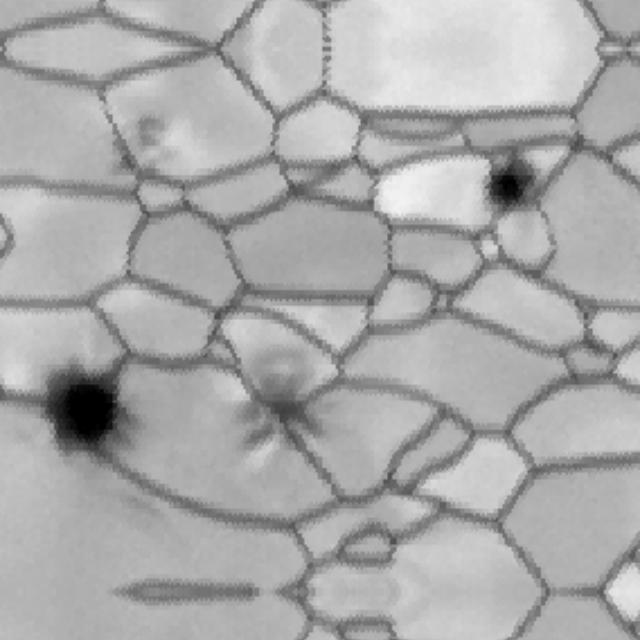good_void: (13, 330, 171, 491), (217, 332, 350, 473), (452, 120, 562, 236), (88, 95, 186, 193)
